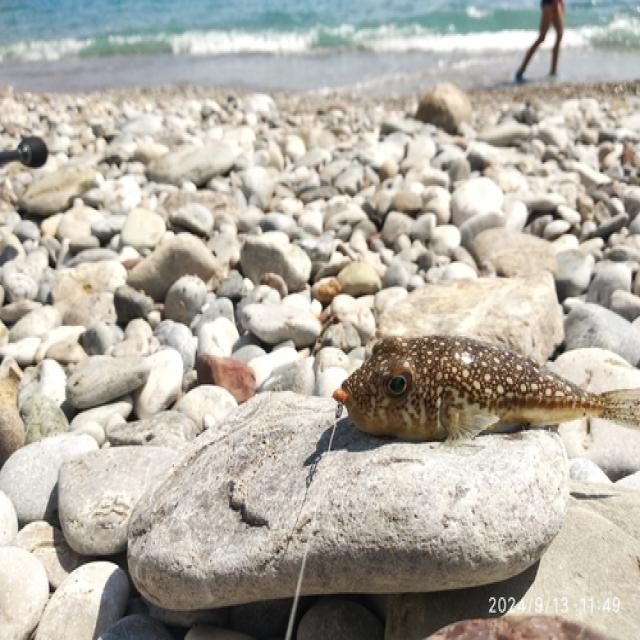Balik: (333, 337, 639, 442)
